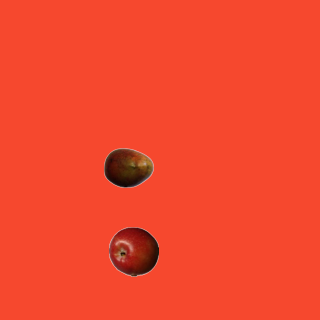Apple Braeburn: (108, 226, 158, 276)
Mango Red: (103, 142, 153, 192)
